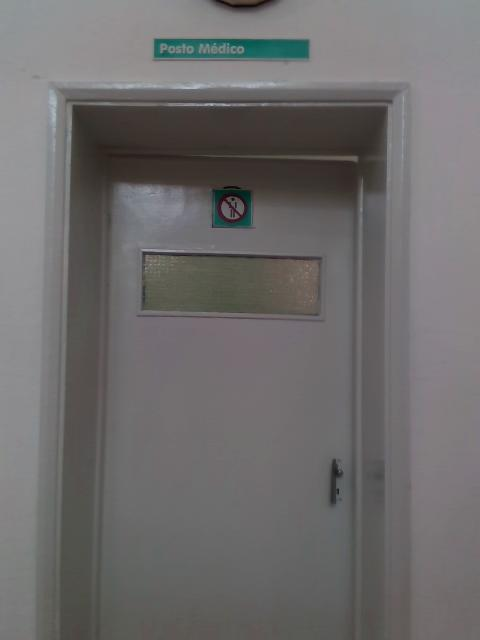closed_door: (59, 101, 388, 639)
